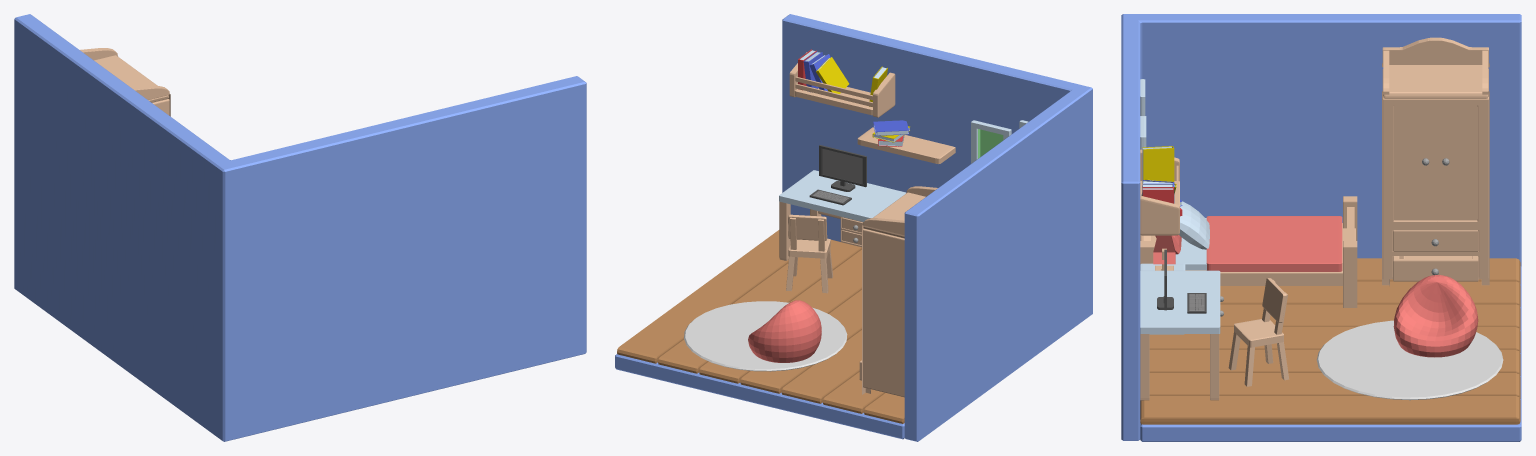
Rendered from BedroomScene.glb.
3 views of the same model, side by side, from view 1: azimuth 30°, elevation 25°; view 2: azimuth 150°, elevation 25°; view 3: azimuth 270°, elevation 25° (orthographic). The views are drawn at different scales.
Parts seen in each view (by area): view 1: Wall_Cube.002, Wardrobe_1_Cube.019_Wardrobe; view 2: Wall_Cube.002, Wood_floor_1_Plane.001, Wardrobe_1_Cube.019_Wardrobe, Carpet_1_Circle, Floor_Plane, Seat_1_Sphere.001, Table_1_Cube.013_White, Wall_bookshelf.001_Cube.044, Chair_1_Cube.024, Wall_shelf.001_Cube.042, Table_1_Cube.013_Wardrobe, PC_1_Cube.021_Screen (+5 smaller); view 3: Wall_Cube.002, Wood_floor_1_Plane.001, Wardrobe_1_Cube.019_Wardrobe, Carpet_1_Circle, Bed_1_Cube.031_Blanket, Floor_Plane, Seat_1_Sphere.001, Table_1_Cube.013_White, Bed_1_Cube.031_Wardrobe, Chair_1_Cube.024, Wall_bookshelf.001_Cube.044, Bed_1_Cube.031_White (+4 smaller).
Part boxes in pixels (left/top/right/bottom): Wall_Cube.002: left=14, top=14, right=586, bottom=441; Wardrobe_1_Cube.019_Wardrobe: left=80, top=48, right=170, bottom=116; Wall_Cube.002: left=782, top=14, right=1092, bottom=441; Wood_floor_1_Plane.001: left=617, top=230, right=904, bottom=423; Wardrobe_1_Cube.019_Wardrobe: left=859, top=186, right=937, bottom=397; Carpet_1_Circle: left=684, top=301, right=847, bottom=371; Floor_Plane: left=615, top=354, right=904, bottom=439; Seat_1_Sphere.001: left=748, top=300, right=821, bottom=362; Table_1_Cube.013_White: left=779, top=170, right=905, bottom=221; Wall_bookshelf.001_Cube.044: left=789, top=52, right=895, bottom=117; Chair_1_Cube.024: left=786, top=214, right=833, bottom=293; Wall_shelf.001_Cube.042: left=857, top=127, right=955, bottom=163; Table_1_Cube.013_Wardrobe: left=779, top=201, right=863, bottom=260; PC_1_Cube.021_Screen: left=822, top=148, right=862, bottom=183; Wall_Cube.002: left=1121, top=14, right=1521, bottom=440; Wood_floor_1_Plane.001: left=1140, top=258, right=1520, bottom=424; Wardrobe_1_Cube.019_Wardrobe: left=1382, top=37, right=1489, bottom=286; Carpet_1_Circle: left=1316, top=320, right=1503, bottom=400; Bed_1_Cube.031_Blanket: left=1155, top=216, right=1342, bottom=271; Floor_Plane: left=1140, top=266, right=1521, bottom=441; Seat_1_Sphere.001: left=1393, top=275, right=1478, bottom=357; Table_1_Cube.013_White: left=1140, top=270, right=1220, bottom=333; Bed_1_Cube.031_Wardrobe: left=1140, top=196, right=1357, bottom=307; Chair_1_Cube.024: left=1228, top=278, right=1289, bottom=386; Wall_bookshelf.001_Cube.044: left=1140, top=149, right=1179, bottom=235; Bed_1_Cube.031_White: left=1175, top=201, right=1209, bottom=270.
Bounding box in the file's own units: 8.4 × 6.03 × 8.4.
